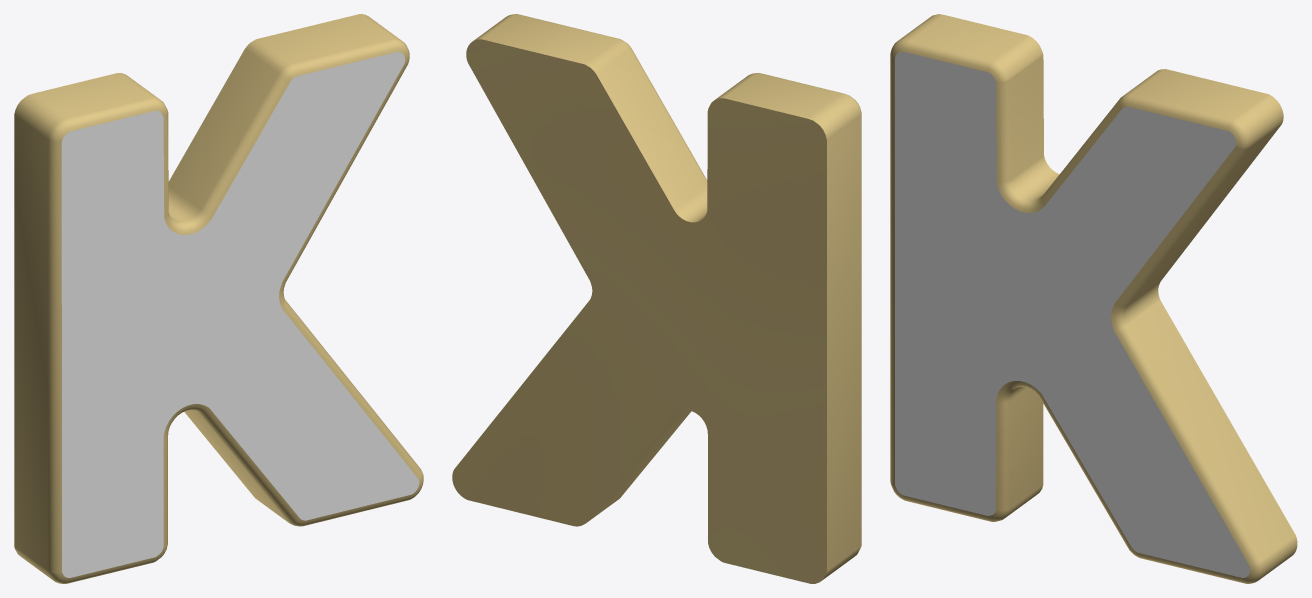
Rendered from LettersLightUp02_K.FBX.
The picture shows the model from 3 angles, left to right: view 1: azimuth 30°, elevation 25°; view 2: azimuth 150°, elevation 25°; view 3: azimuth 330°, elevation 25°; orthographic projection.
Visible parts, largest first — view 1: LettersLightUp02_K; view 2: LettersLightUp02_K; view 3: LettersLightUp02_K.
Boxes of the visible parts, x1=… form: LettersLightUp02_K: x1=14, y1=14, x2=423, y2=583; LettersLightUp02_K: x1=452, y1=14, x2=861, y2=583; LettersLightUp02_K: x1=890, y1=14, x2=1297, y2=583.
Size of what is drawn, in the model's own units: 0.506 by 0.5997 by 0.0912.
